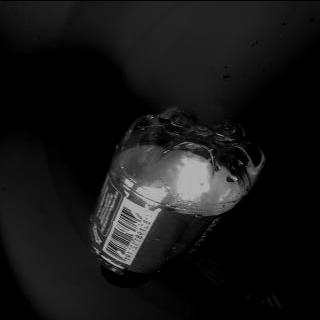bottle: (88, 106, 268, 287)
